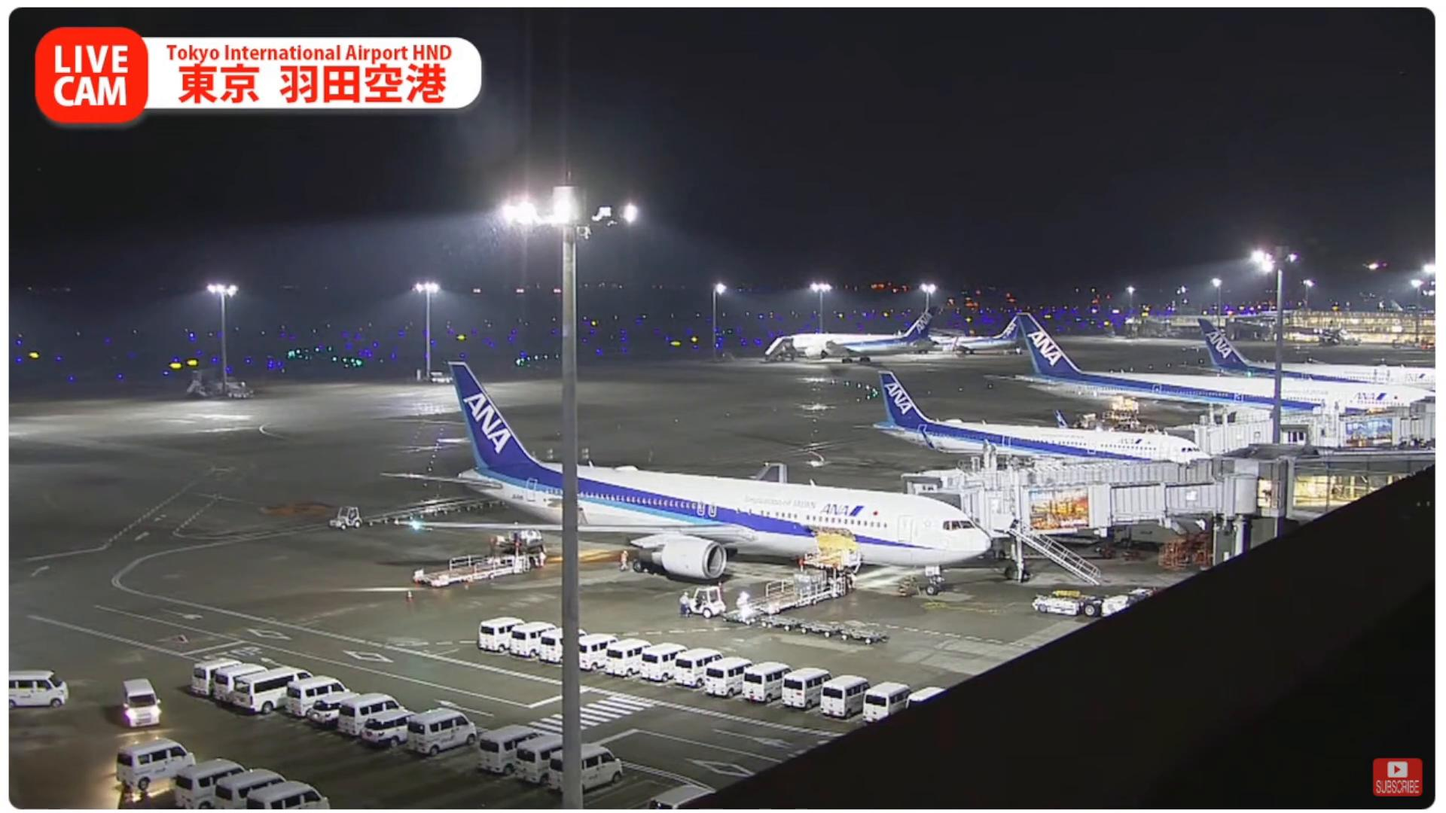Aerobridge: (927, 475, 1249, 541), (902, 461, 1219, 494)
Airplane: (384, 360, 990, 589)
Dolly: (715, 607, 889, 646), (359, 491, 507, 526)
JCPL: (394, 518, 550, 585), (734, 543, 856, 617)
Tow Tug: (1036, 585, 1151, 622)
Tractor: (679, 584, 726, 618), (331, 501, 358, 530)
Window: (1293, 468, 1419, 517)
